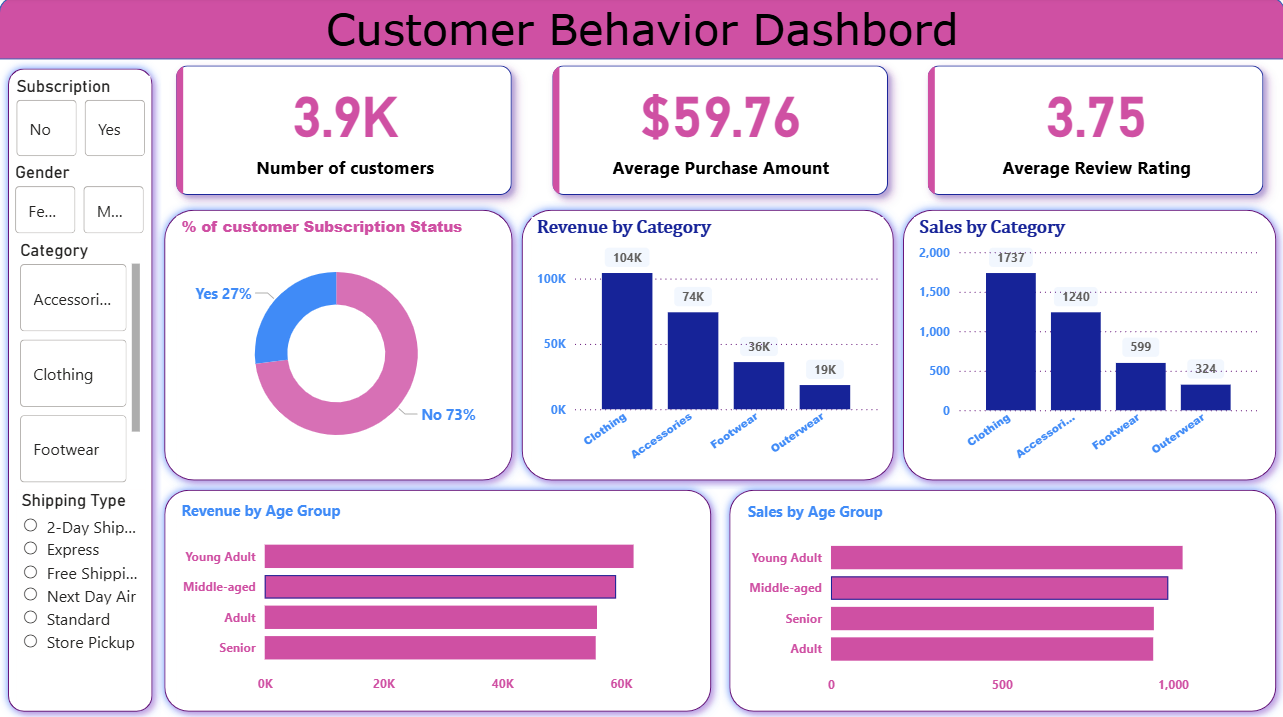

The dashboard page shown, as its layout file describes it:
{"tool":"powerbi","page":{"name":"Page 1","canvas":[1280,720],"ordinal":0},"visuals":[{"type":"shape","box":[0,0,1280,62.2],"z":0},{"type":"shape","box":[511.3,202.8,388.1,287.4],"z":1000},{"type":"cardVisual","fields":{"Data":["customer_behavior customer.Number of customers","customer_behavior customer.Average Purchase Amount","customer_behavior customer.Average Review Rating"]},"box":[155.5,47.3,1124.5,171.7],"z":2000},{"type":"shape","box":[155.5,202.8,364.5,287.4],"z":3000},{"type":"donutChart","title":"% of customer Subscription Status","fields":{"Category":["customer_behavior customer.subscription_status"],"Y":["Count(customer_behavior customer.customer_id)"]},"box":[176.6,217.7,318.5,253.8],"z":4000},{"type":"clusteredColumnChart","title":"Revenue by Category","fields":{"Y":["Sum(customer_behavior customer.purchase_amount)"],"Category":["customer_behavior customer.category"]},"box":[529.9,218.9,350.8,252.5],"z":5000},{"type":"shape","box":[890.7,202.8,389.4,287.4],"z":6000},{"type":"clusteredColumnChart","title":"Sales by Category","fields":{"Category":["customer_behavior customer.category"],"Y":["CountNonNull(customer_behavior customer.customer_id)"]},"box":[910.6,218.9,348.3,252.5],"z":7000},{"type":"shape","box":[0,62.2,161.7,658.1],"z":8000},{"type":"textbox","box":[0,0,1280,62.2],"z":9000},{"type":"advancedSlicerVisual","title":"Subscription","fields":{"Values":["customer_behavior customer.subscription_status"]},"box":[12.4,78.4,138.1,85.8],"z":10000},{"type":"advancedSlicerVisual","title":"Gender","fields":{"Values":["customer_behavior customer.gender"]},"box":[11.2,164.2,139.3,77.1],"z":11000},{"type":"advancedSlicerVisual","title":"Category","fields":{"Values":["customer_behavior customer.category"]},"box":[16.2,241.3,129.4,248.8],"z":12000},{"type":"listSlicer","title":"Shipping Type","fields":{"Values":["customer_behavior customer.shipping_type"]},"box":[17.4,490.1,128.1,212.7],"z":13000},{"type":"shape","box":[155.5,481.4,562.3,238.8],"z":14000},{"type":"clusteredBarChart","title":"Revenue by Age Group","fields":{"Y":["Sum(customer_behavior customer.purchase_amount)"],"Category":["customer_behavior customer.age_group"]},"box":[176.6,500.1,517.5,201.5],"z":14001},{"type":"shape","box":[717.8,481.4,562.3,238.8],"z":14002},{"type":"clusteredBarChart","title":"Sales by Age Group","fields":{"Category":["customer_behavior customer.age_group"],"Y":["CountNonNull(customer_behavior customer.category)"]},"box":[740.2,501.3,517.5,201.5],"z":14003}]}

Visuals, with their boxes in screenshot pixels (x1, y1, x2, y2), scaled from the page's 1280x720 canvas onto the 1283x717 screenshot:
shape: region(0, 0, 1282, 62)
shape: region(512, 202, 902, 488)
cardVisual - customer_behavior customer.Number of customers x customer_behavior customer.Average Purchase Amount: region(156, 47, 1282, 218)
shape: region(156, 202, 521, 488)
"% of customer Subscription Status" donutChart: region(177, 217, 496, 470)
"Revenue by Category" clusteredColumnChart: region(531, 218, 883, 469)
shape: region(893, 202, 1282, 488)
"Sales by Category" clusteredColumnChart: region(913, 218, 1262, 469)
shape: region(0, 62, 162, 716)
textbox: region(0, 0, 1282, 62)
"Subscription" advancedSlicerVisual: region(12, 78, 151, 164)
"Gender" advancedSlicerVisual: region(11, 164, 151, 240)
"Category" advancedSlicerVisual: region(16, 240, 146, 488)
"Shipping Type" listSlicer: region(17, 488, 146, 700)
shape: region(156, 479, 719, 716)
"Revenue by Age Group" clusteredBarChart: region(177, 498, 696, 699)
shape: region(719, 479, 1282, 716)
"Sales by Age Group" clusteredBarChart: region(742, 499, 1261, 700)
